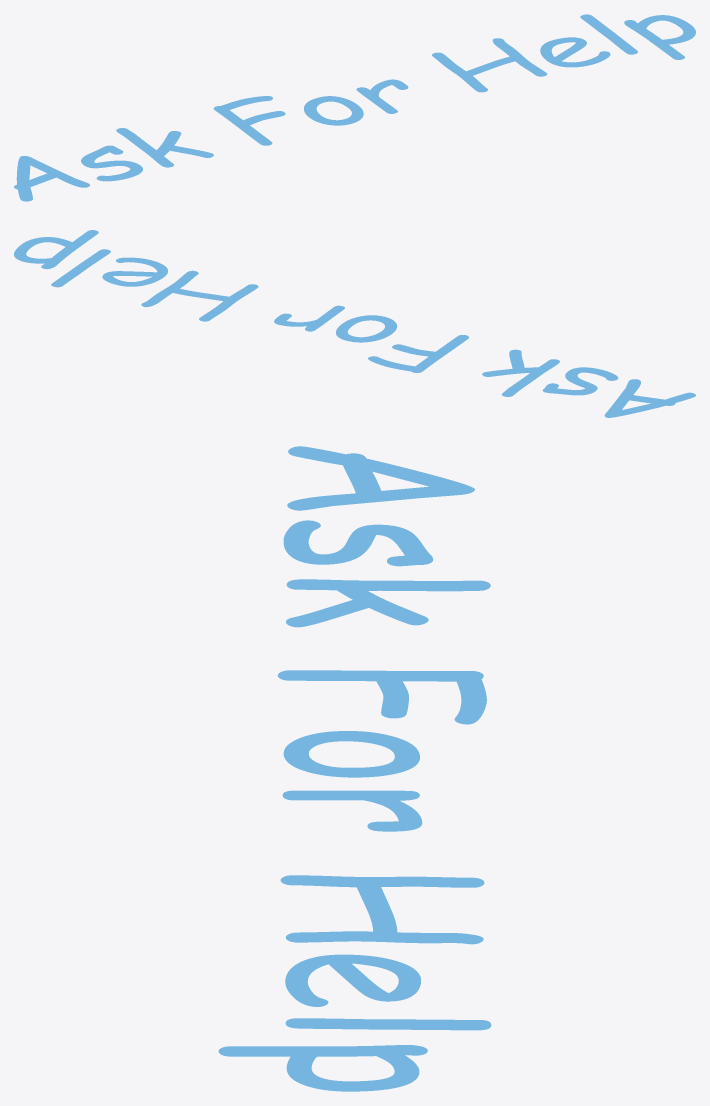
The picture shows the model from 3 angles, top to bottom: view 1: azimuth 30°, elevation 25°; view 2: azimuth 150°, elevation 25°; view 3: azimuth 270°, elevation 25°; orthographic projection. The views are drawn at different scales.
Visible parts, largest first — view 1: Ask For Help; view 2: Ask For Help; view 3: Ask For Help.
Part boxes in pixels (x1,y1,x2,y2): Ask For Help: (14,14,695,201); Ask For Help: (14,230,695,417); Ask For Help: (218,446,491,1091).
Bounding box in the file's own units: 423 × 0 × 75.62.
